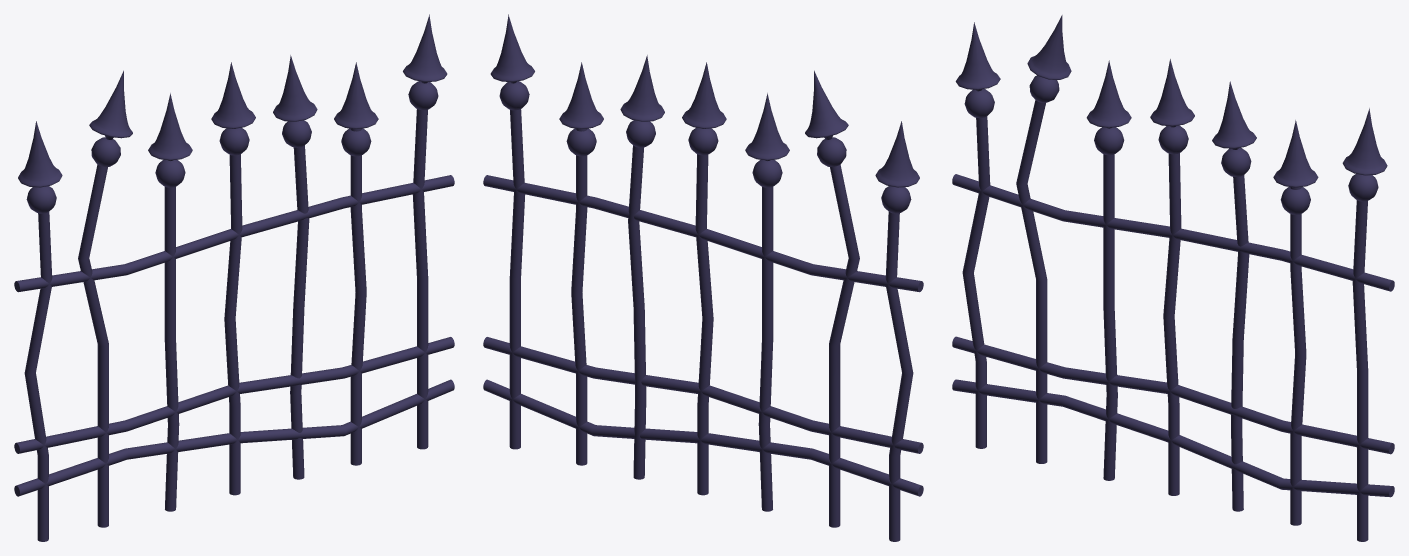
Rendered from Fence.fbx.
3 views of the same model, side by side, from view 1: azimuth 30°, elevation 25°; view 2: azimuth 150°, elevation 25°; view 3: azimuth 330°, elevation 25° (orthographic).
Parts seen in each view (by area): view 1: fence; view 2: fence; view 3: fence.
Boxes of the visible parts, x1,y1,x2,y2 form: fence: (14,14,454,541); fence: (483,14,923,541); fence: (952,15,1394,541).
Size of the model in its own units: 3323 by 3293 by 296.
